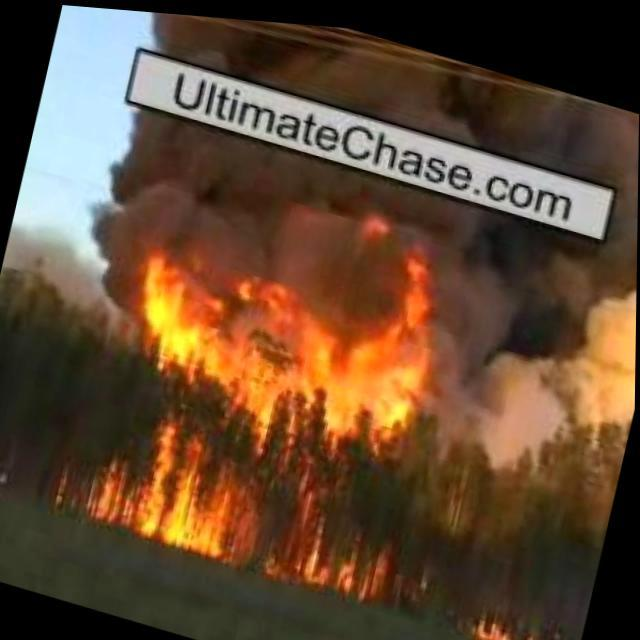fire: (88, 221, 444, 601), (464, 600, 548, 640)
